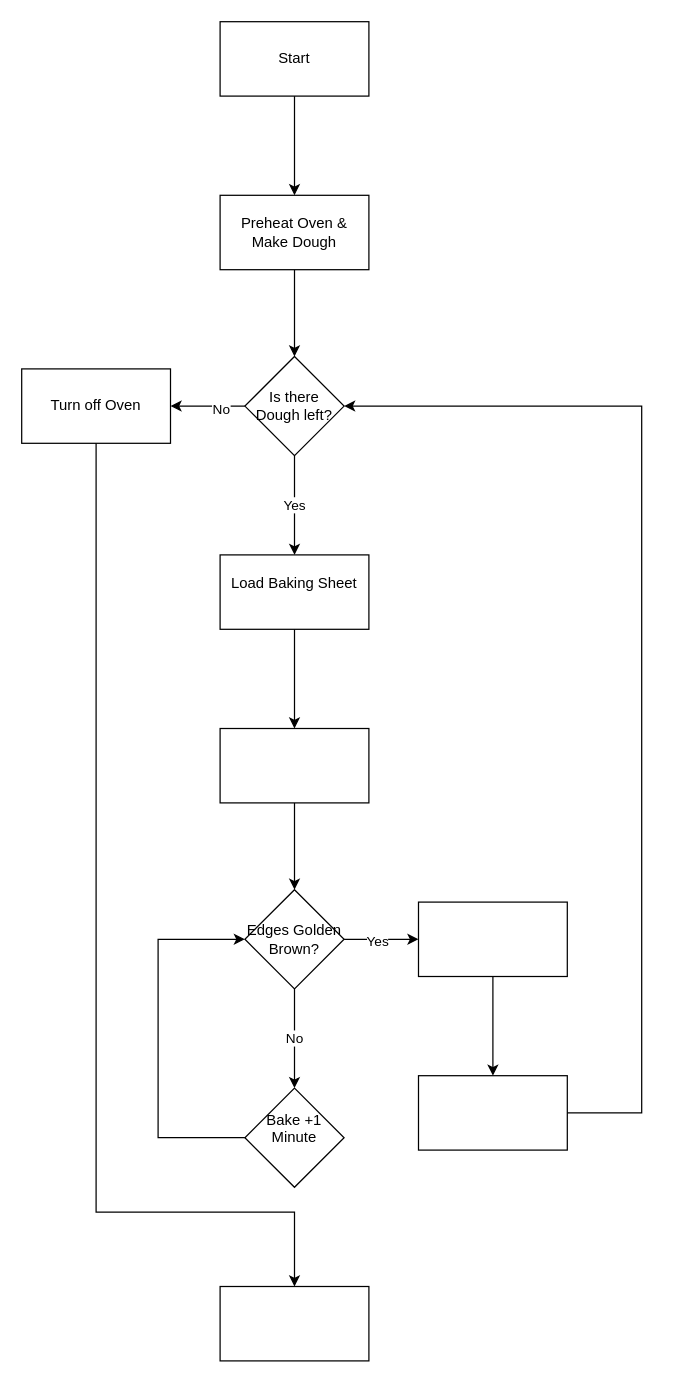
Image size: 673x1383. Some labels were removed from this diagram. The box of each missing label's shape, as (x1, y1, x2, y2) in pixels:
Bake for 9-11 Minutes: (219, 727, 369, 803)
End: (219, 1285, 369, 1361)
Remove & Transfer to Cooling Rack]: (417, 901, 567, 976)
Serve Batch to Friends: (417, 1074, 567, 1150)
